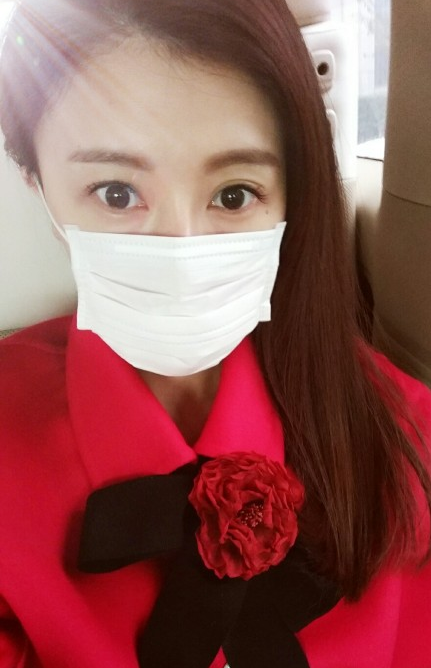face_mask: (55, 32, 286, 374)
